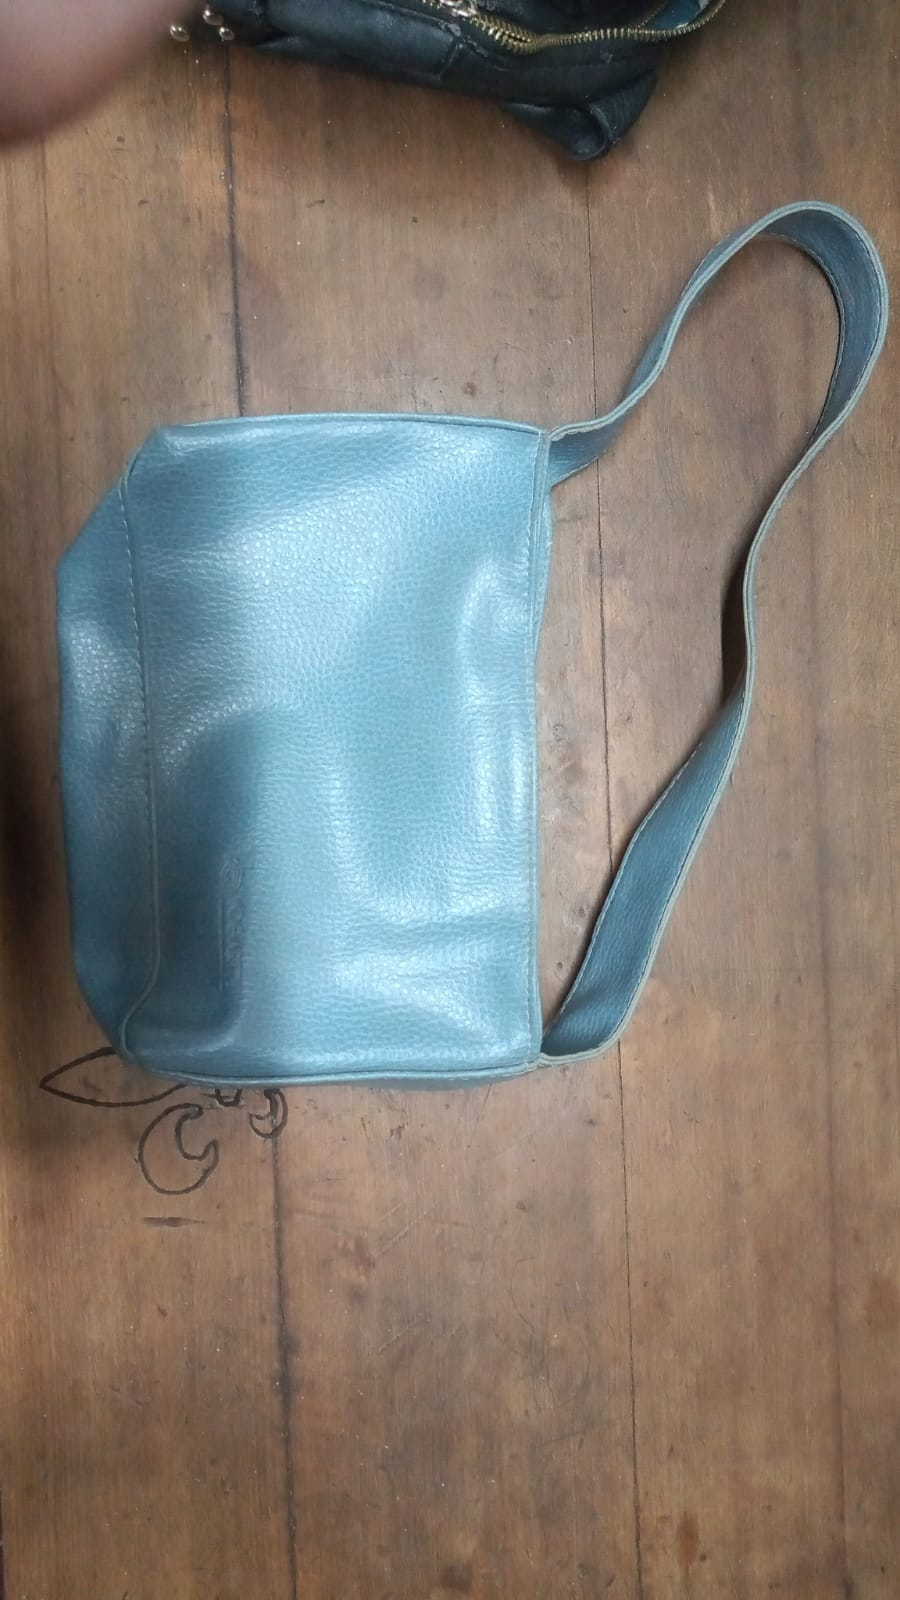cartera: (49, 185, 900, 1113)
cuero: (55, 416, 549, 1095)
